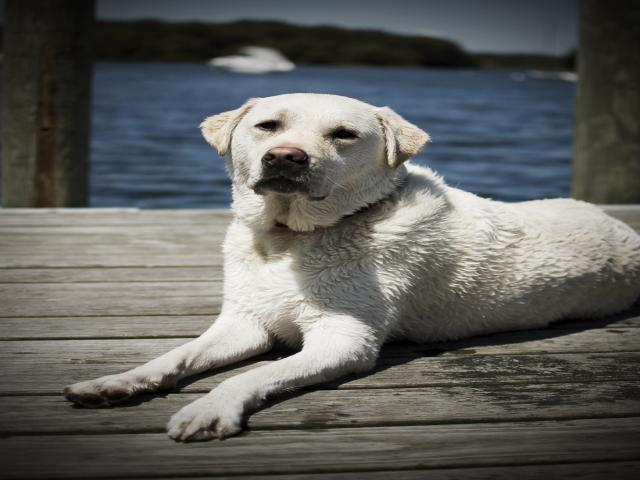Dog: (65, 92, 640, 443)
